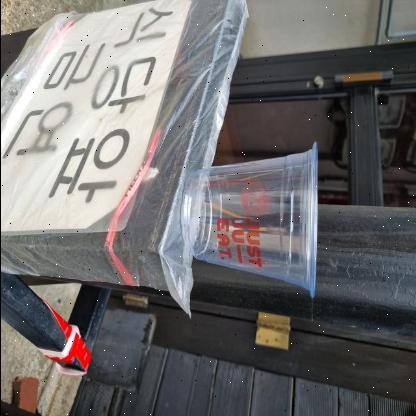Others: (176, 136, 322, 300)
